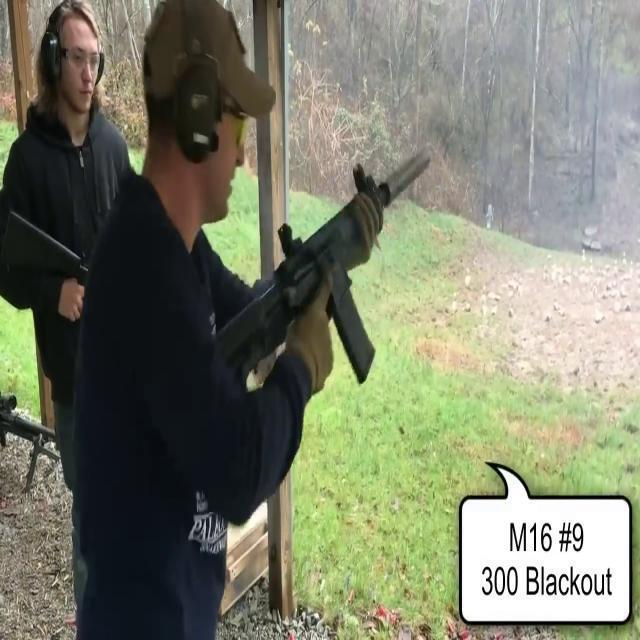Rifle: (210, 134, 446, 447)
